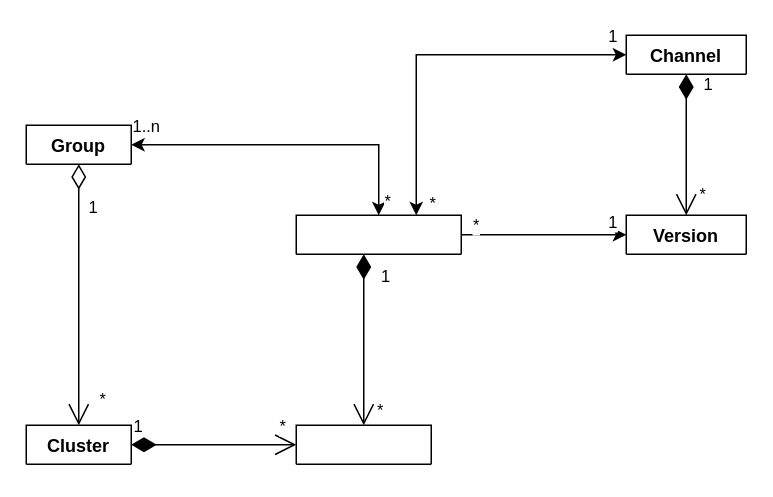
The diagram is 773 pixels wide and 497 high, and some of its shapes have lost their labels. Here are the shapes that lost their labels. From the top down, the box of each, then its label:
(295, 214, 461, 254): Subscription
(295, 424, 431, 464): Resource
